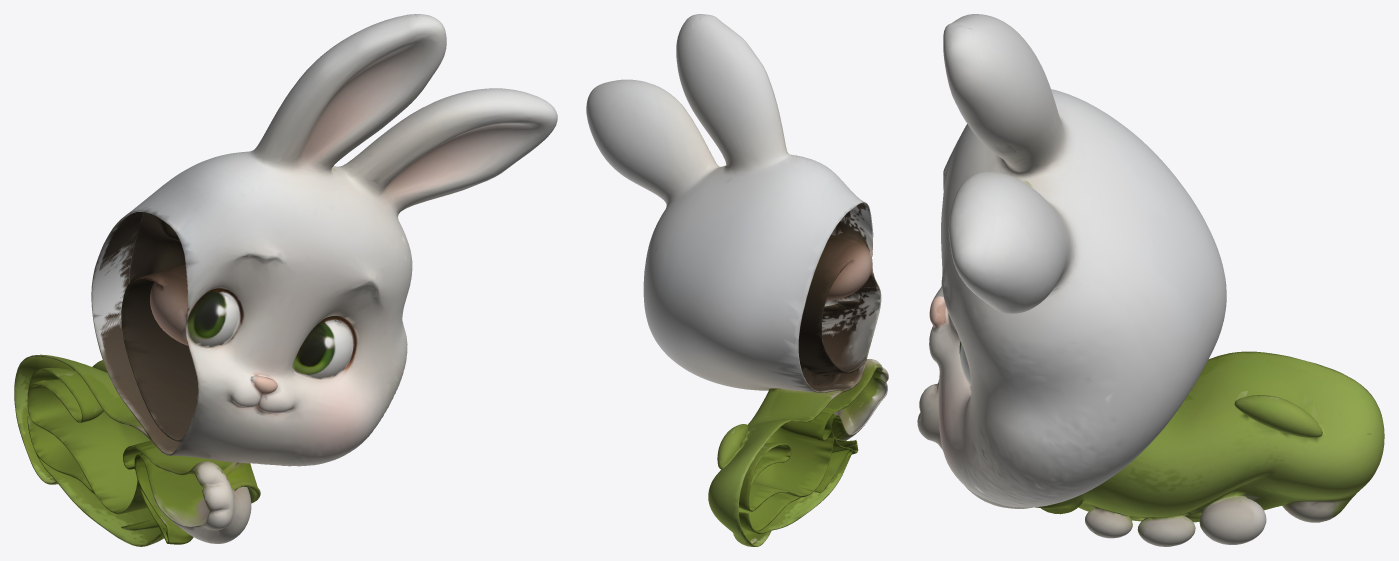
File: rabbit-edge-left.glb
3 renders of one model, left to right at view 1: azimuth 30°, elevation 25°; view 2: azimuth 150°, elevation 25°; view 3: azimuth 270°, elevation 25°, orthographic. The views are drawn at different scales.
Parts seen in each view (by area): view 1: node_0; view 2: node_0; view 3: node_0.
Boxes of the visible parts, x1=… form: node_0: x1=14, y1=14, x2=557, y2=546; node_0: x1=586, y1=14, x2=888, y2=546; node_0: x1=917, y1=14, x2=1384, y2=546.
Bounding box in the file's own units: 0.6789 × 0.9054 × 0.6212.
Materials: 1 (1 with a texture image).
